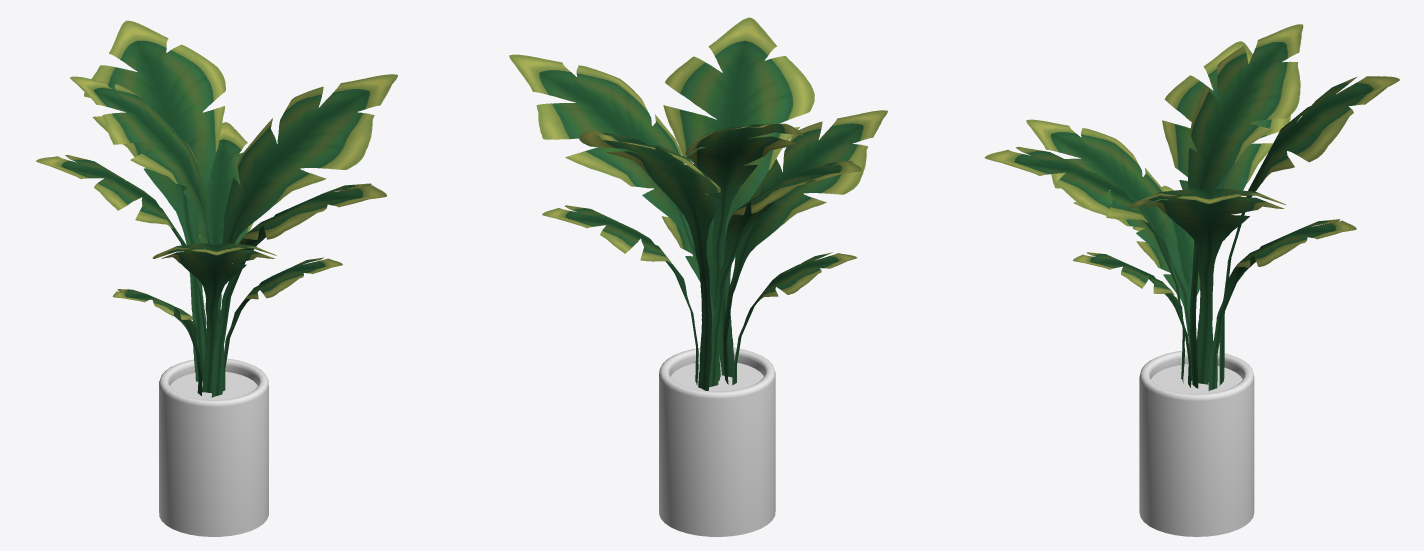
File: Plant.fbx
3 views of the same model, side by side, from view 1: azimuth 30°, elevation 25°; view 2: azimuth 150°, elevation 25°; view 3: azimuth 270°, elevation 25° (orthographic). The views are drawn at different scales.
Parts seen in each view (by area): view 1: Plant; view 2: Plant; view 3: Plant.
Boxes of the visible parts, left/top/right/bottom form: Plant: left=36, top=20, right=397, bottom=536; Plant: left=509, top=17, right=887, bottom=536; Plant: left=984, top=24, right=1399, bottom=536.
Bounding box in the file's own units: 163 × 182 × 170.
